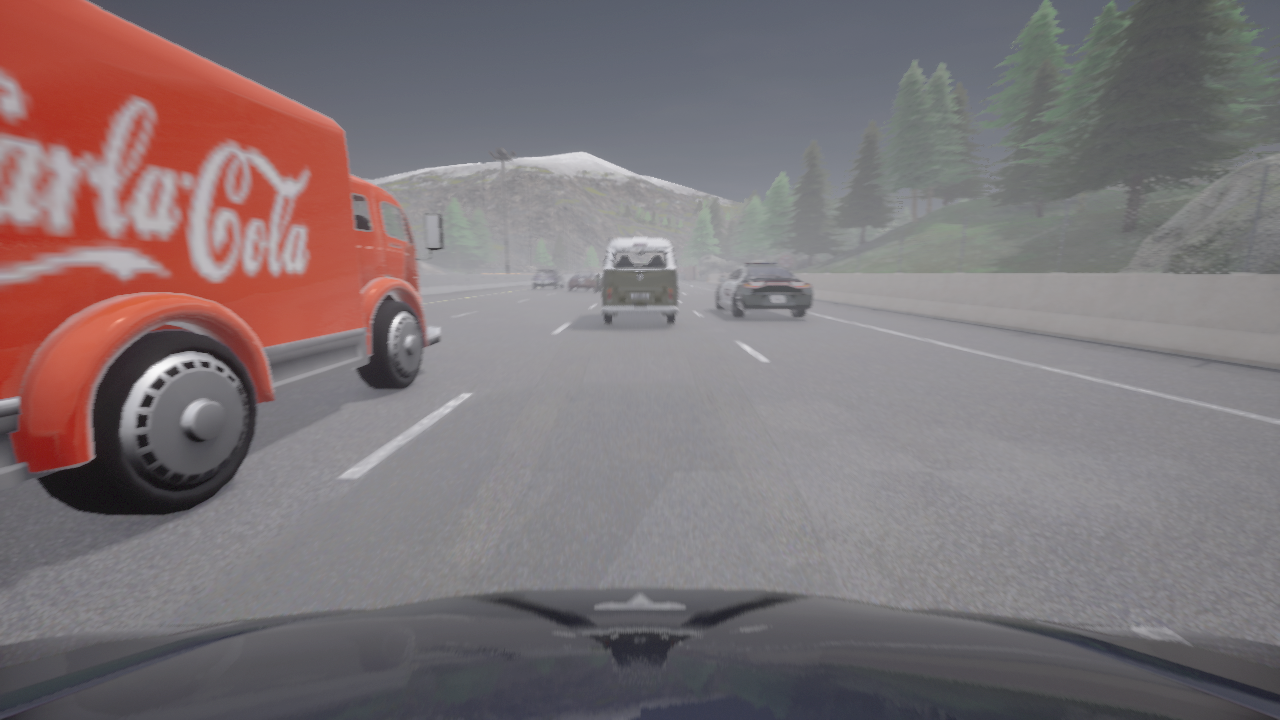cyclist: (0, 588, 1279, 719), (601, 238, 678, 324), (715, 262, 814, 317), (567, 271, 602, 291), (531, 268, 564, 289)
